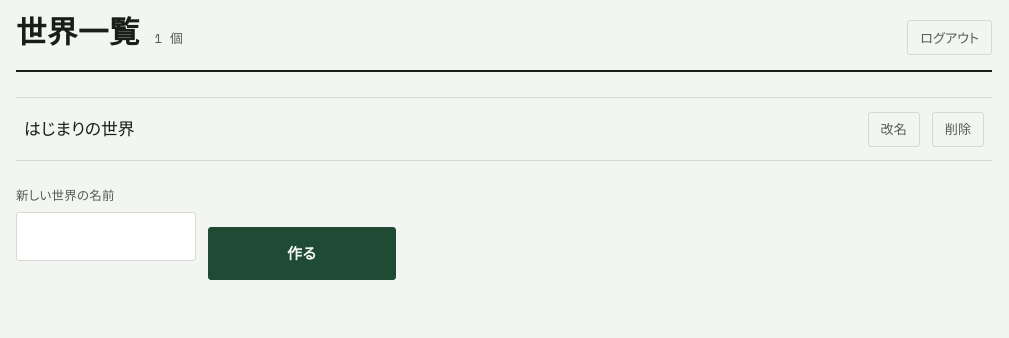
Test: WorldsPage › 変更の実行中は作成・保存・削除を押せない
Check: the button "作る" is disabled, box [208,227,396,280]
Check: the button "削除" is disabled, box [932,112,984,147]
Click the button "改名". click: (894, 129)
box: [868,112,920,147]
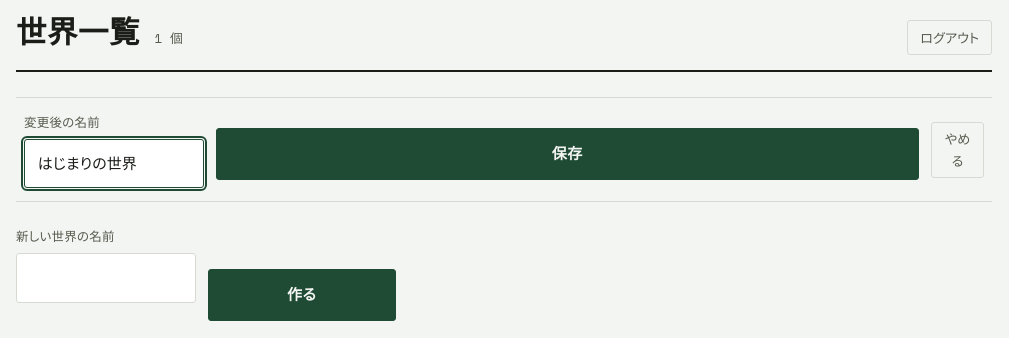
Check: the button "保存" is disabled, box [216,128,919,180]
